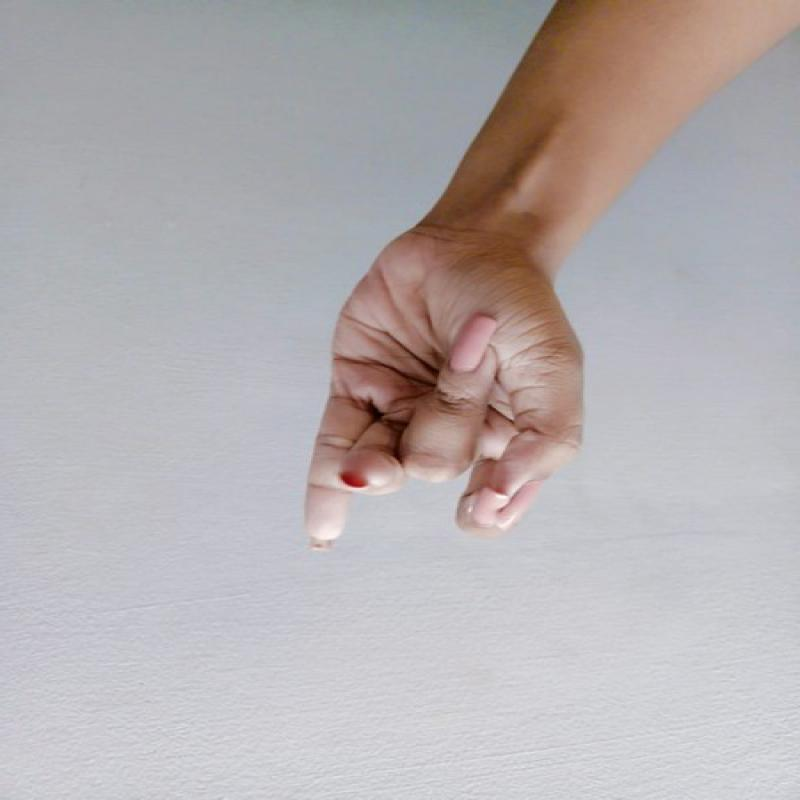Katakam: (257, 224, 608, 566)
